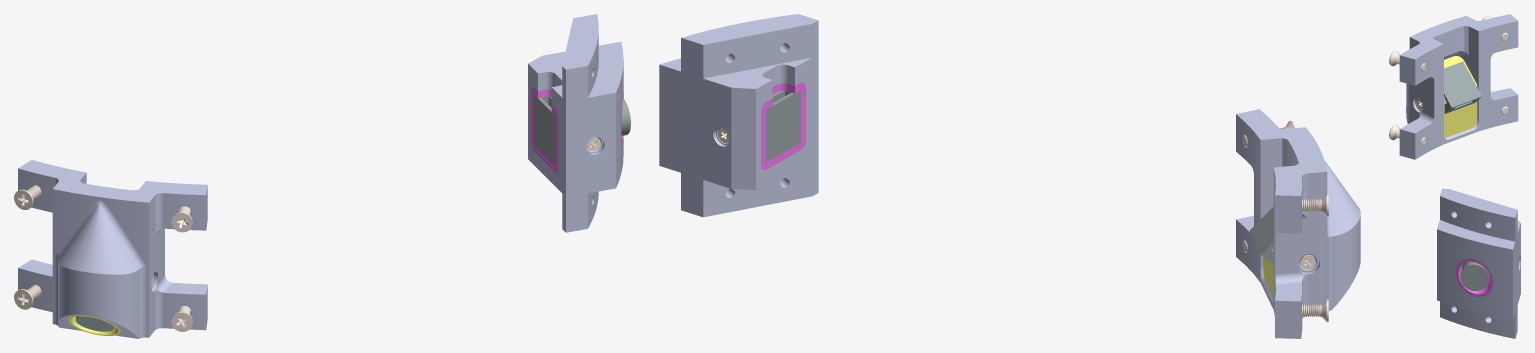
File: rocketCamTotal.glb
3 renders of one model, left to right at view 1: azimuth 30°, elevation 25°; view 2: azimuth 150°, elevation 25°; view 3: azimuth 270°, elevation 25°, orthographic. The views are drawn at different scales.
Visible parts, largest first — view 1: Cam10-1 - Part, SideCam5-1 - Part, Boss-Extrude1 2 - Part, SideShell1-1 - Part, flat head screw_am-19 - Part, flat head screw_am-20 - Part; view 2: SideCam5-1 - Part, Cam10-1 - Part, Boss-Extrude1 2 - Part, SideShell1-1 - Part, Boss-Extrude1 - Part; view 3: Cam10-1 - Part, SideCam5-1 - Part, Boss-Extrude1 - Part, downShell1-1 - Part, Boss-Extrude1 2 - Part, SideShell1-1 - Part, flat head screw_am-18 - Part, flat head screw_am-21 - Part, SideCam5-1 - Part 2.
Boxes of the visible parts, left/top/right/bottom form: Cam10-1 - Part: left=18, top=160, right=207, bottom=338; SideCam5-1 - Part: left=528, top=14, right=623, bottom=232; Boss-Extrude1 2 - Part: left=534, top=95, right=630, bottom=164; SideShell1-1 - Part: left=531, top=87, right=623, bottom=172; flat head screw_am-19 - Part: left=14, top=185, right=41, bottom=209; flat head screw_am-20 - Part: left=14, top=284, right=41, bottom=309; SideCam5-1 - Part: left=659, top=14, right=818, bottom=217; Cam10-1 - Part: left=1236, top=109, right=1360, bottom=338; Boss-Extrude1 2 - Part: left=766, top=90, right=800, bottom=161; SideShell1-1 - Part: left=761, top=82, right=805, bottom=169; Boss-Extrude1 - Part: left=1249, top=207, right=1273, bottom=264; Cam10-1 - Part: left=1399, top=14, right=1518, bottom=159; SideCam5-1 - Part: left=1437, top=188, right=1520, bottom=338; Boss-Extrude1 - Part: left=1444, top=61, right=1481, bottom=113; downShell1-1 - Part: left=1444, top=56, right=1477, bottom=137; Boss-Extrude1 2 - Part: left=1460, top=261, right=1489, bottom=290; SideShell1-1 - Part: left=1455, top=258, right=1493, bottom=296; flat head screw_am-18 - Part: left=1389, top=50, right=1426, bottom=71; flat head screw_am-21 - Part: left=1389, top=124, right=1426, bottom=145; SideCam5-1 - Part 2: left=1451, top=211, right=1491, bottom=322.
Bounding box in the file's own units: 0.183 × 0.046 × 0.0454.
